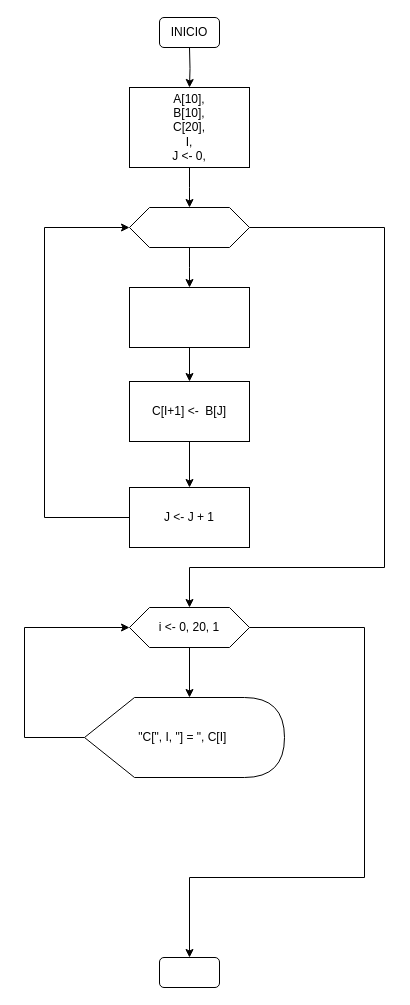
Image size: 410x1005. Some labels were removed from this diagram. Each missing label, with the centre of its shape:
C[I] <- A[J]: point (189, 317)
FIM: point (189, 972)
i <- 0, 20, 2: point (189, 227)
